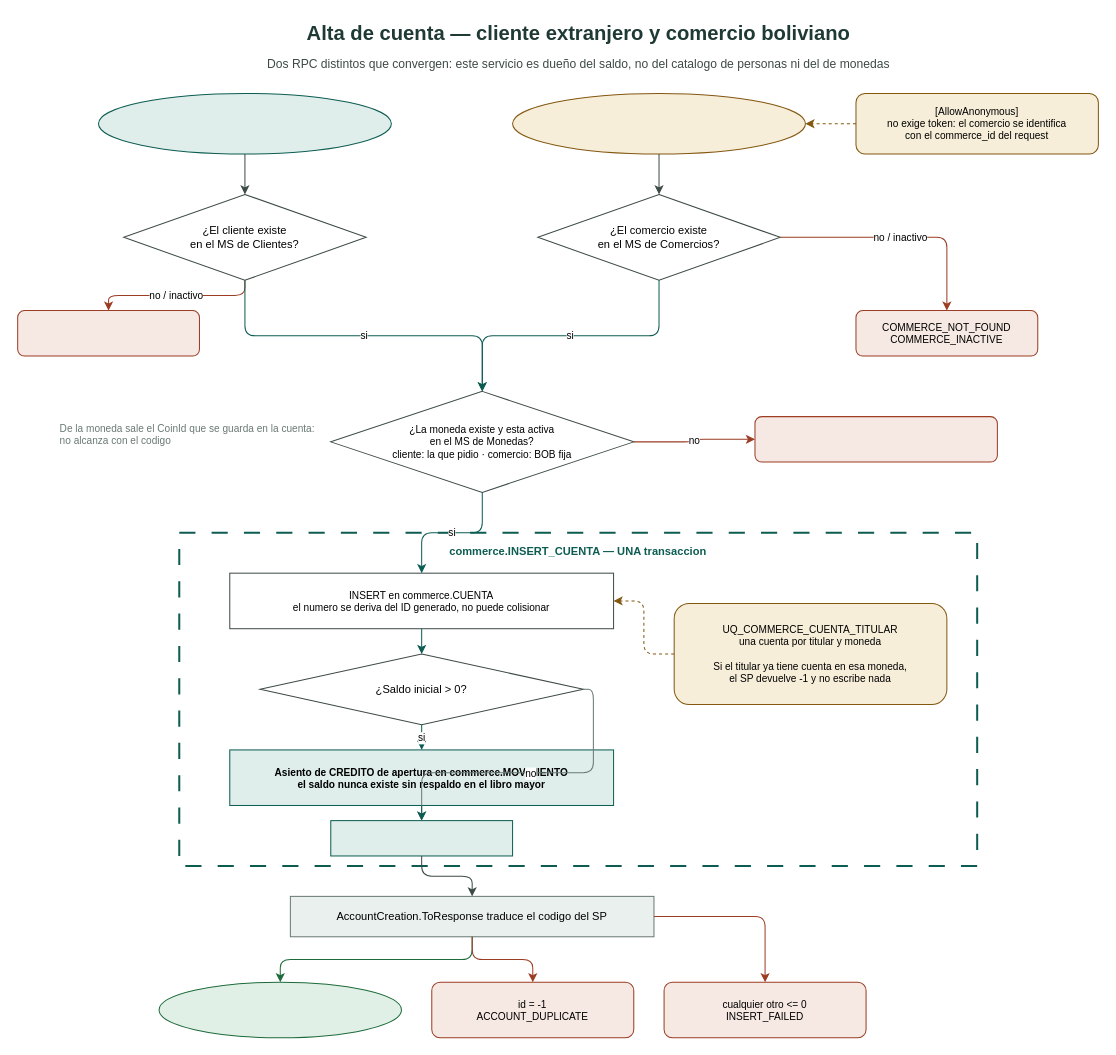
Some shapes in this 1116 by 1055 pixel diagram are drawn without their labels. The shapes that lost their labels are listed below. From the top down, each one's centre as x and y in pixels, then its label:
At (244,123): "CreateClientAccount client_id · coin_code · initial_balance".
At (658,123): "CreateCommerceAccount commerce_id · initial_balance (sin moneda: siempre BOB)".
At (108,333): "CUSTOMER_NOT_FOUND CUSTOMER_INACTIVE".
At (875,439): "CURRENCY_NOT_SUPPORTED".
At (421,838): "COMMIT".
At (279,1009): "id > 0 SUC000 + id de la cuenta".
